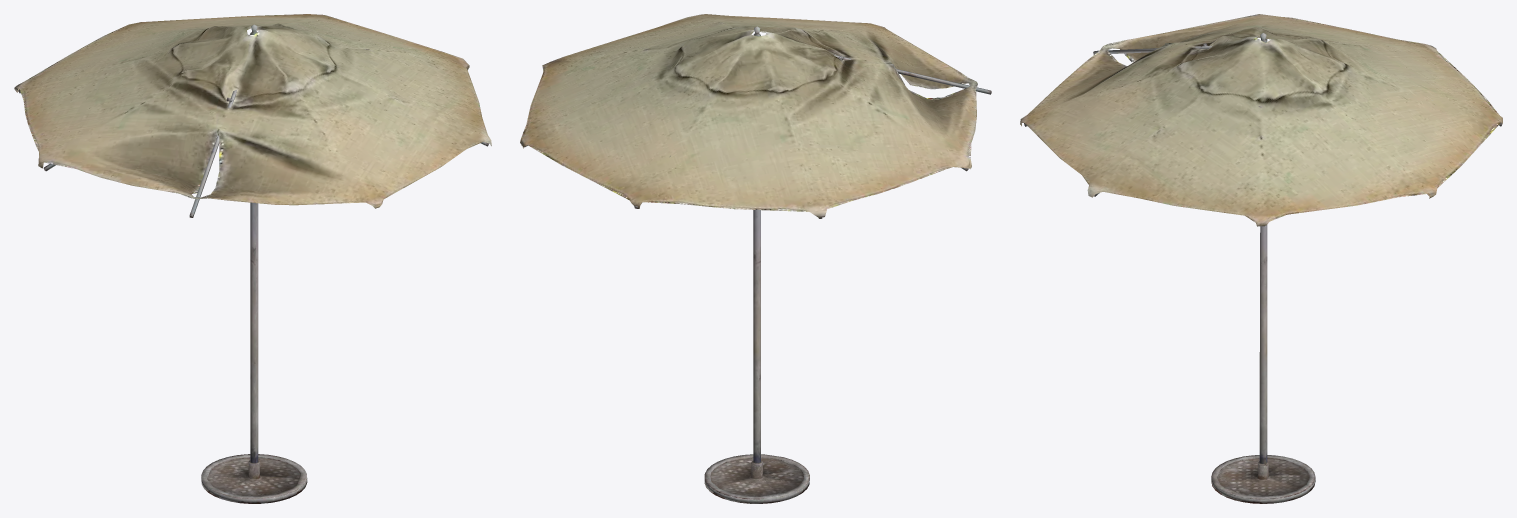
The model's file is beach_parasol_a.glb.
3 views of the same model, side by side, from view 1: azimuth 30°, elevation 25°; view 2: azimuth 150°, elevation 25°; view 3: azimuth 270°, elevation 25° (orthographic).
Parts seen in each view (by area): view 1: beach_parasol_LOD0; view 2: beach_parasol_LOD0; view 3: beach_parasol_LOD0.
Part boxes in pixels (bbox=[...]): beach_parasol_LOD0: bbox=[14, 14, 491, 503]; beach_parasol_LOD0: bbox=[520, 14, 991, 503]; beach_parasol_LOD0: bbox=[1020, 14, 1502, 503].
Size of the model in its own units: 2.57 by 2.63 by 2.56.
2 materials, 2 textured.
